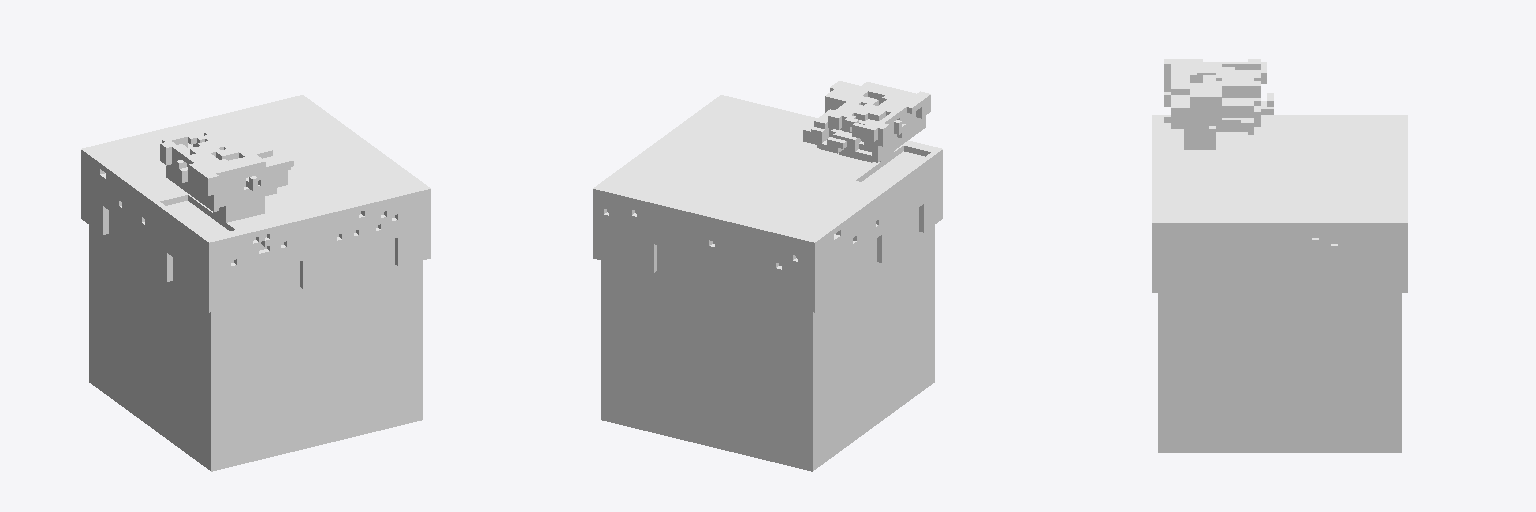
Rendered from tile_base_top_1_re.obj.
3 views of the same model, side by side, from view 1: azimuth 30°, elevation 25°; view 2: azimuth 150°, elevation 25°; view 3: azimuth 270°, elevation 25° (orthographic).
Visible parts, largest first — view 1: tile_base_top_1_re; view 2: tile_base_top_1_re; view 3: tile_base_top_1_re.
Boxes of the visible parts, x1=… form: tile_base_top_1_re: x1=81, y1=95, x2=430, y2=471; tile_base_top_1_re: x1=593, y1=81, x2=942, y2=471; tile_base_top_1_re: x1=1152, y1=59, x2=1407, y2=452.
Bounding box in the file's own units: 40 × 50 × 40.